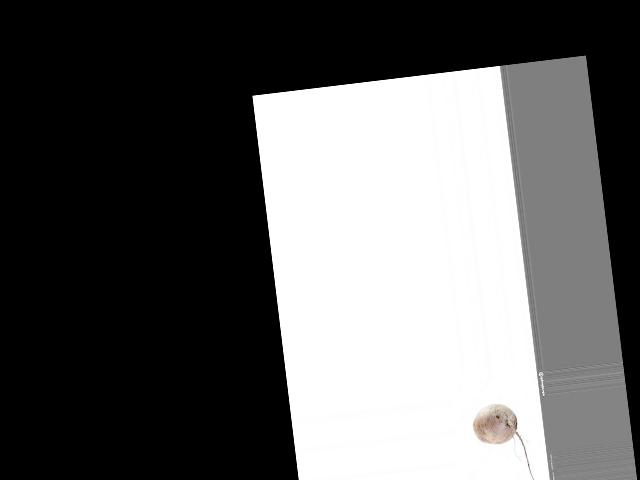beet: (471, 400, 540, 480)
